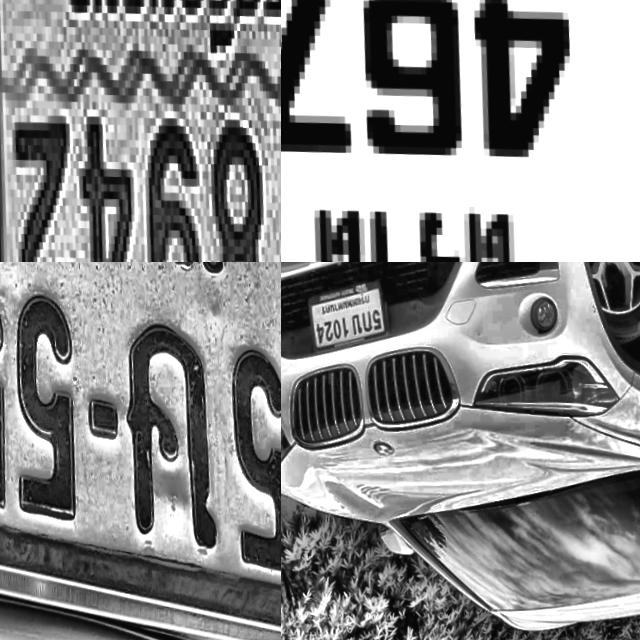license-plate: (0, 262, 281, 640), (281, 0, 640, 262), (0, 0, 281, 262), (297, 271, 388, 362)
